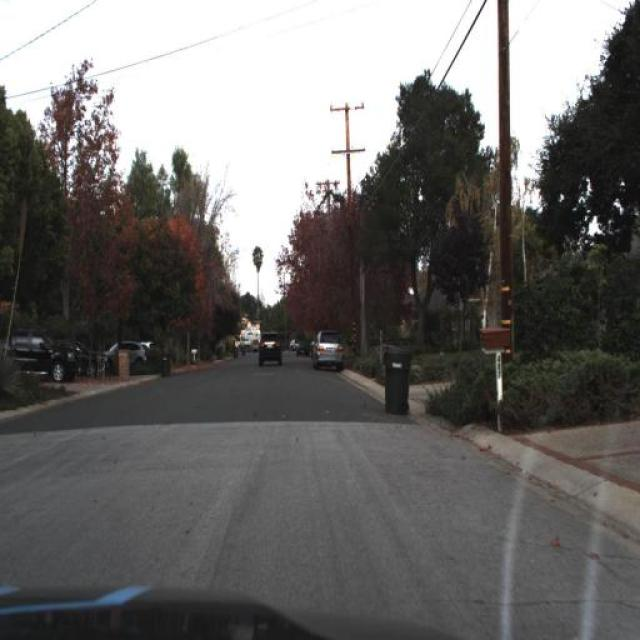car: (11, 330, 83, 386), (253, 325, 285, 373), (106, 338, 149, 372), (310, 328, 345, 369), (78, 340, 108, 382), (296, 341, 310, 358)
